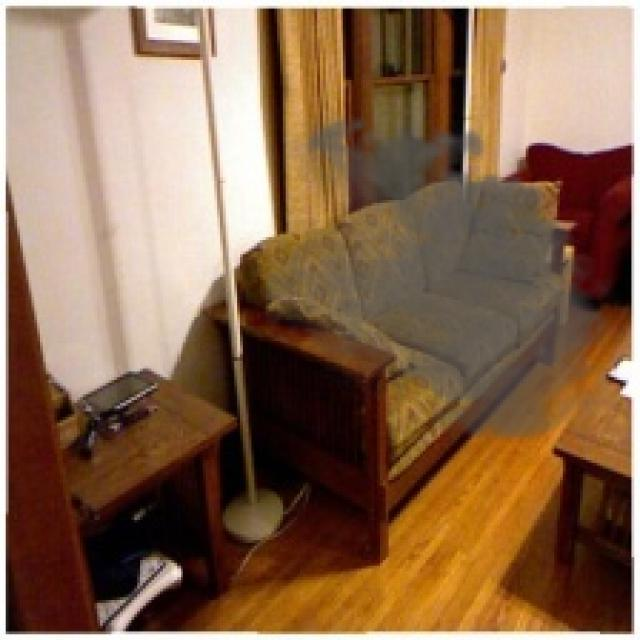Smoke: (266, 106, 626, 448)
